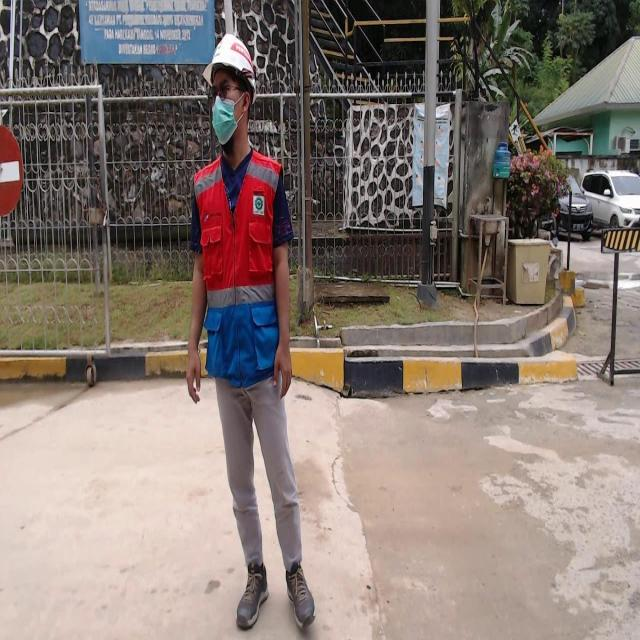helmet: (199, 31, 261, 94)
